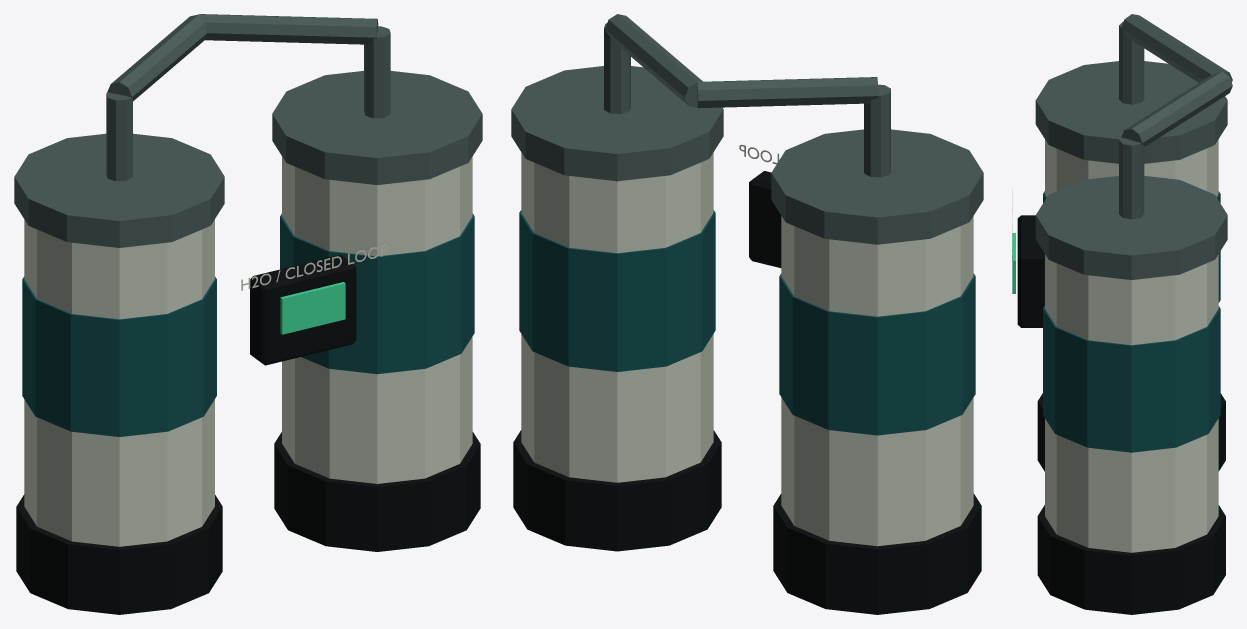
Rendered from SM_MP_Water_Recycler.fbx.
The picture shows the model from 3 angles, left to right: view 1: azimuth 30°, elevation 25°; view 2: azimuth 150°, elevation 25°; view 3: azimuth 270°, elevation 25°; orthographic projection. The views are drawn at different scales.
Visible parts, largest first — view 1: SM_MP_Water_Recycler; view 2: SM_MP_Water_Recycler; view 3: SM_MP_Water_Recycler.
Part boxes in pixels (<box>): SM_MP_Water_Recycler: <box>14,14,482,614</box>; SM_MP_Water_Recycler: <box>511,14,983,614</box>; SM_MP_Water_Recycler: <box>1012,14,1232,614</box>.
Size of the model in its own units: 256 by 122 by 272.
Materials: 1 (1 with a texture image).
